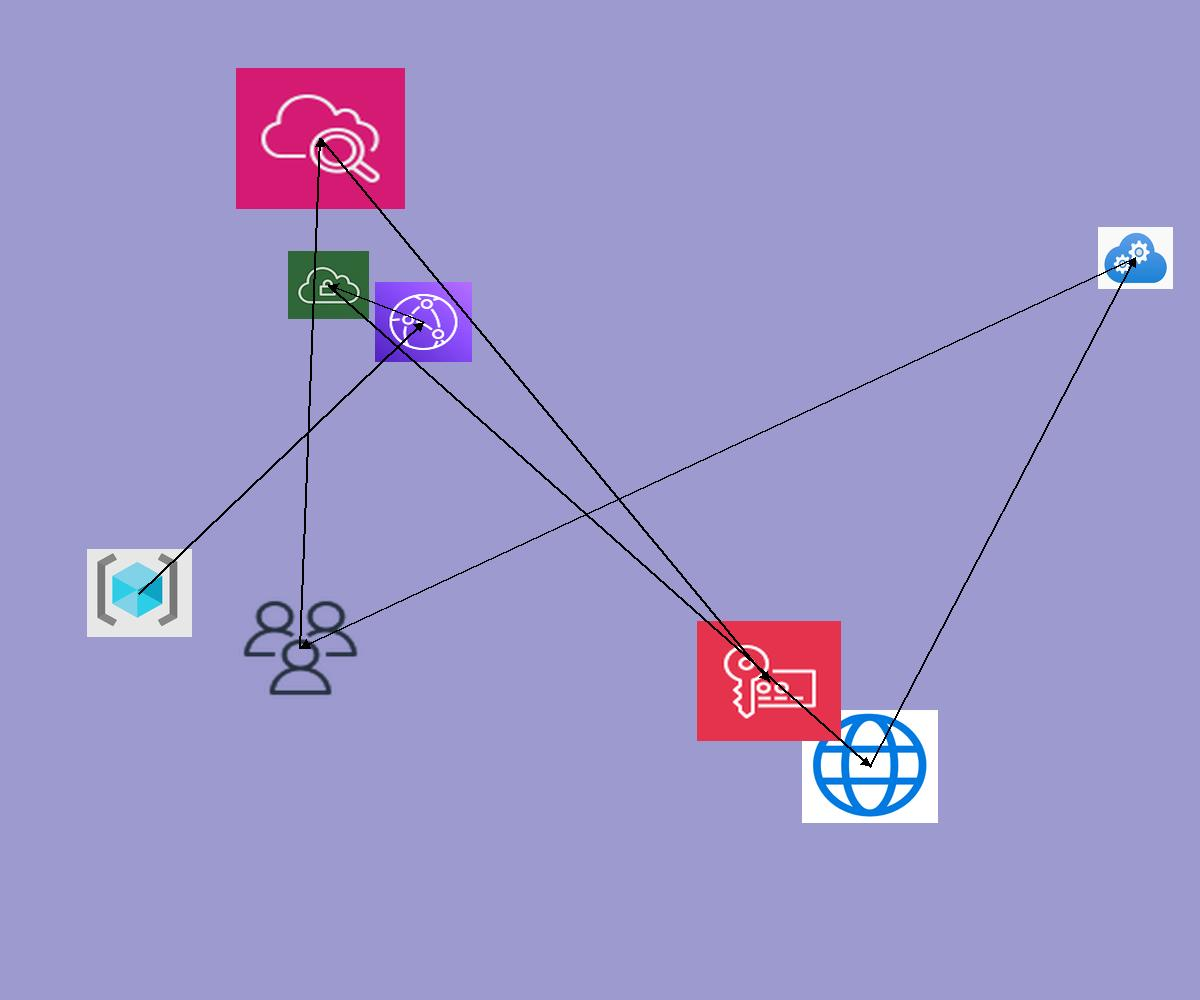AWS-CloudFront: (375, 282, 472, 362)
AWS-CloudWatch: (236, 68, 405, 209)
AWS-Key-Management-Service: (697, 621, 841, 741)
AWS-Private_vpc: (288, 251, 369, 319)
AWS-Res_Users: (239, 597, 362, 699)
Azure_cloud_services: (1098, 227, 1173, 289)
Azure_http: (802, 710, 938, 823)
Azure_resource_group: (87, 549, 192, 637)
